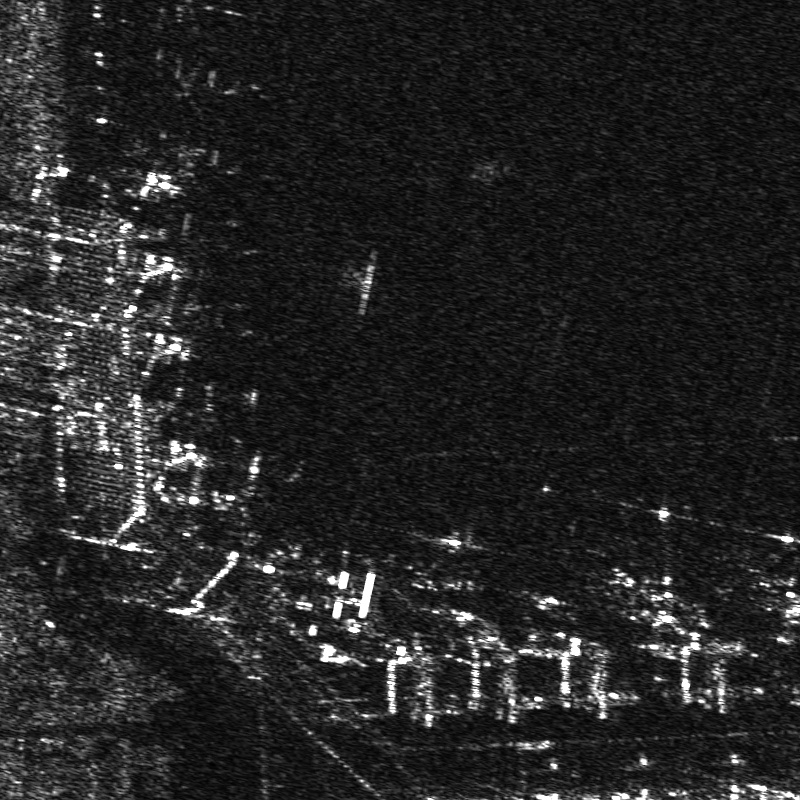A220: (385, 517, 496, 605)
A320/321: (583, 491, 696, 606)
